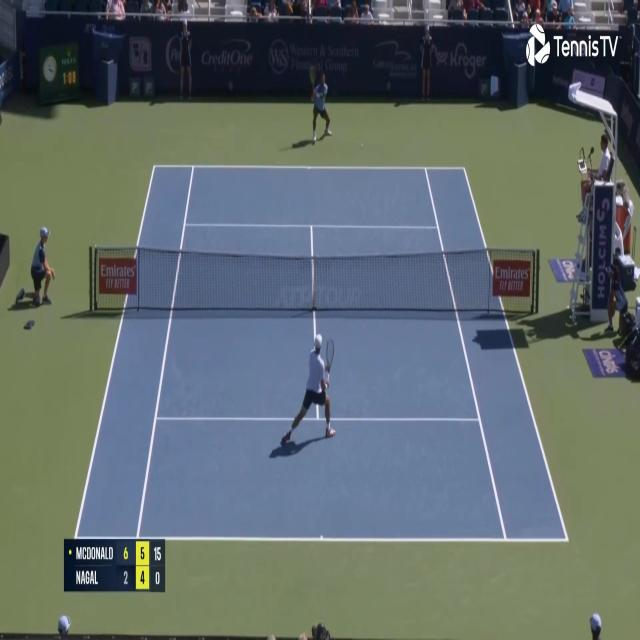tennis-player: (277, 333, 340, 458), (309, 67, 333, 142)
